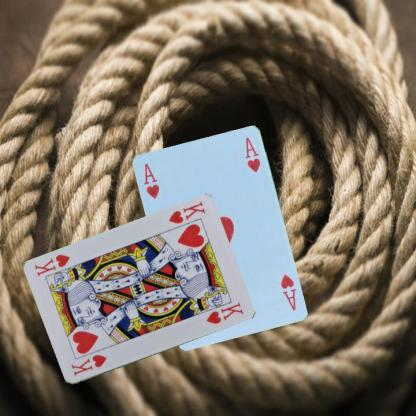Ah: (277, 272, 297, 312), (140, 161, 160, 200)
Kh: (68, 352, 108, 378), (166, 200, 206, 226)
